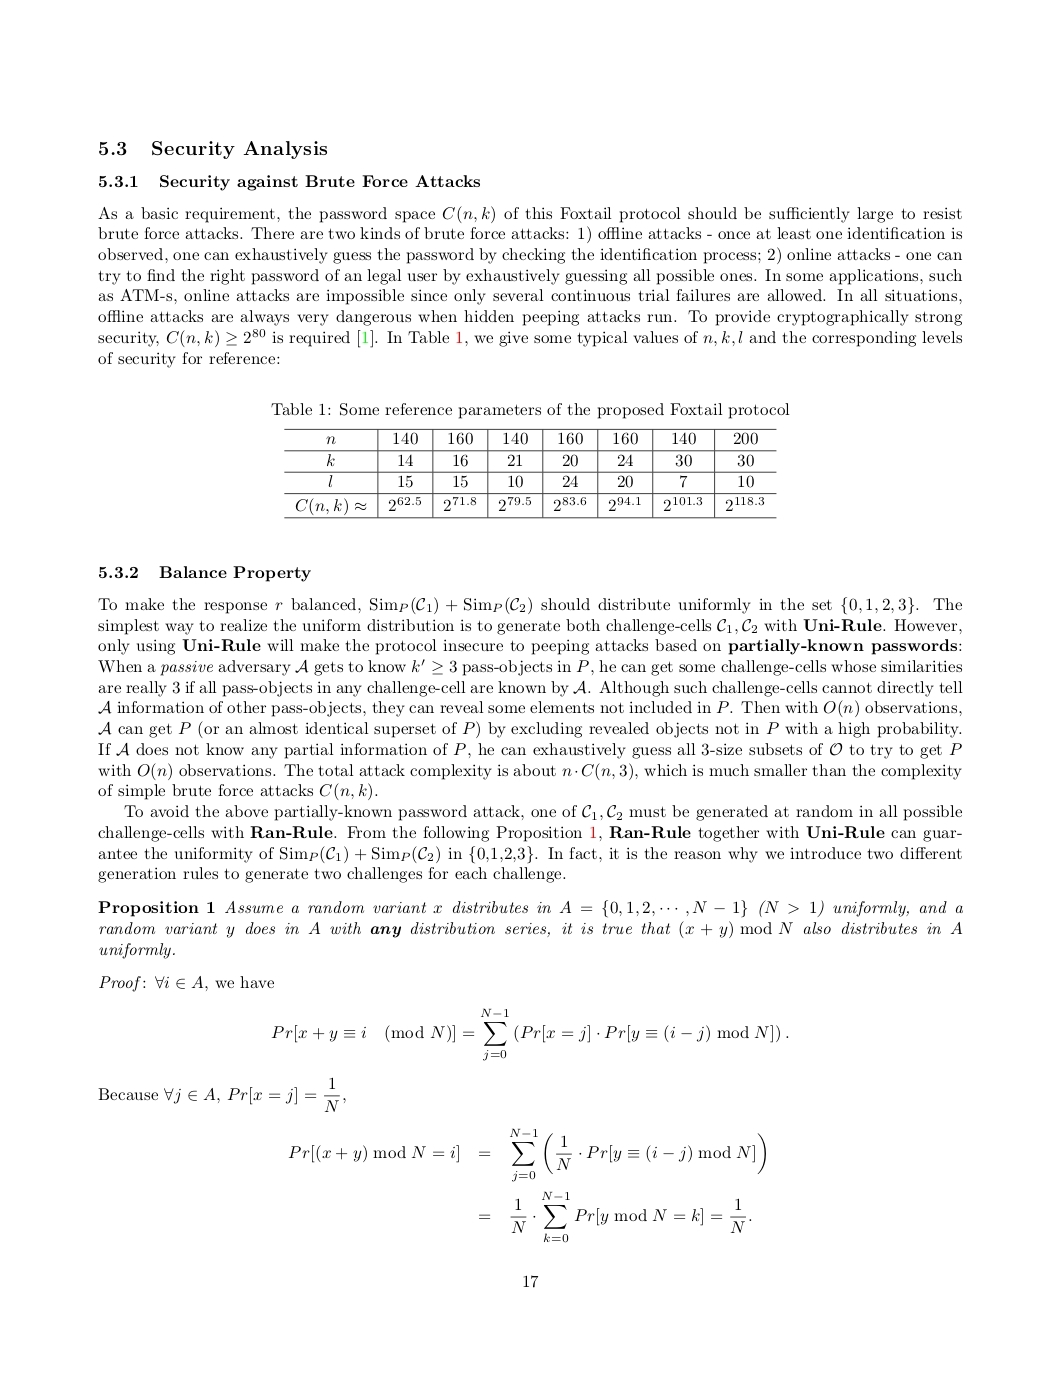Table: (284, 427, 776, 519)
formula: (271, 1007, 788, 1060), (288, 1127, 765, 1182), (479, 1190, 751, 1243)
